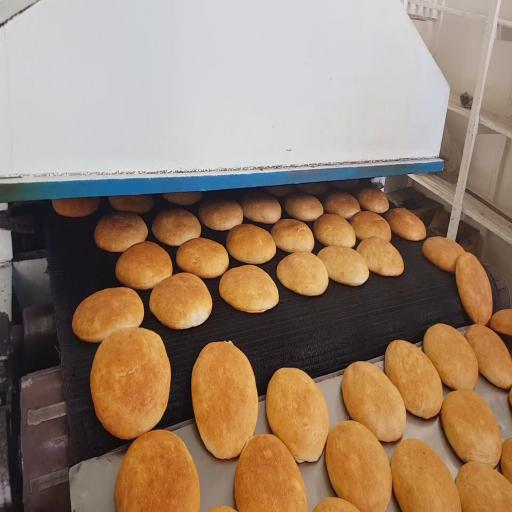bread: (90, 328, 171, 439), (192, 342, 258, 458), (115, 430, 200, 511), (266, 368, 329, 462), (326, 421, 391, 511), (235, 435, 308, 511), (342, 362, 406, 441), (391, 439, 461, 511), (441, 390, 502, 466), (385, 340, 443, 418), (72, 287, 143, 342), (424, 324, 478, 389), (150, 273, 212, 329), (465, 325, 511, 389), (219, 265, 278, 312), (116, 241, 172, 290), (456, 462, 511, 511), (456, 253, 492, 325), (277, 252, 328, 296), (94, 212, 148, 253), (176, 238, 229, 278), (226, 224, 276, 264), (318, 247, 369, 285), (152, 209, 201, 246), (357, 237, 403, 276), (423, 237, 465, 273), (271, 219, 314, 252), (314, 214, 355, 247), (199, 200, 243, 230), (240, 192, 281, 224), (386, 209, 426, 241), (350, 211, 391, 241), (285, 195, 323, 221), (324, 192, 360, 219), (52, 198, 99, 218), (356, 187, 389, 213), (109, 195, 153, 214), (313, 498, 358, 511), (490, 309, 511, 336), (163, 192, 202, 205), (501, 439, 511, 482), (297, 183, 328, 196), (264, 185, 295, 197), (332, 179, 358, 190), (209, 506, 235, 511), (509, 389, 511, 406)
